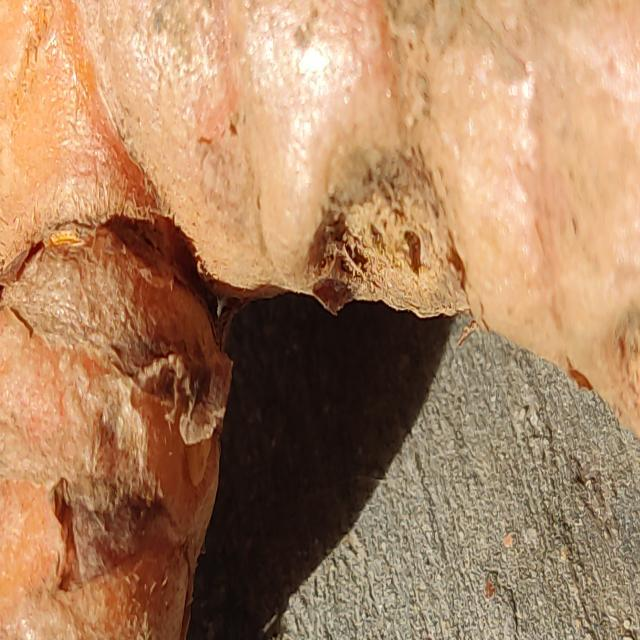ginger: (2, 0, 640, 449)
